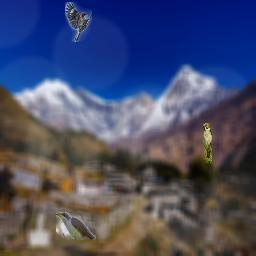Cuckoo: (56, 212, 96, 240)
Sparrow: (203, 123, 212, 163)
Woodpecker: (65, 2, 92, 42)
